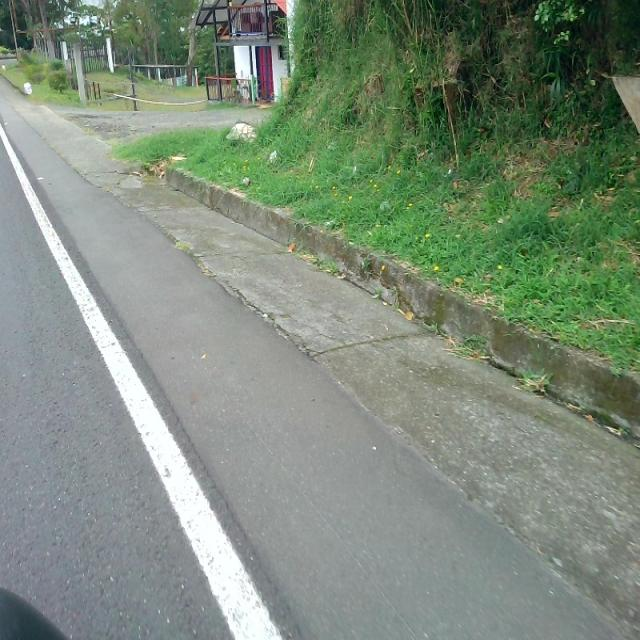DITCH: (3, 77, 638, 638)
